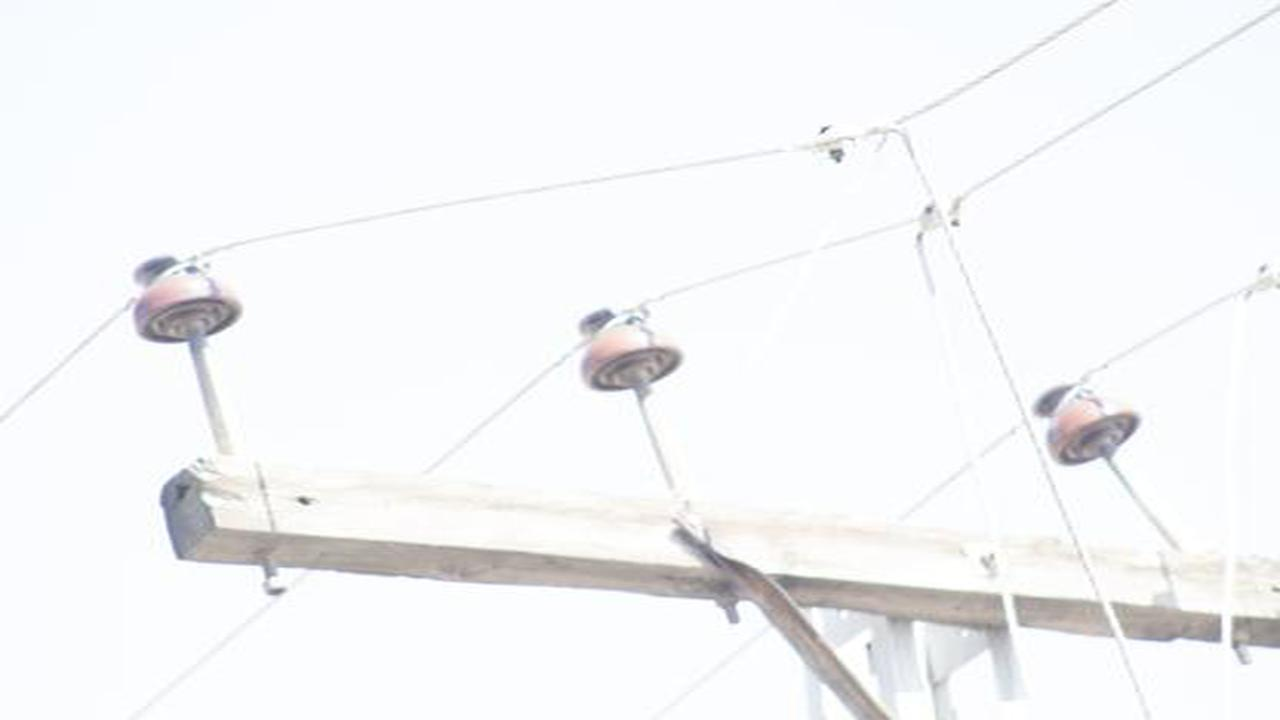insulator_pin: (567, 299, 690, 408), (126, 248, 246, 349), (1030, 372, 1145, 468)
